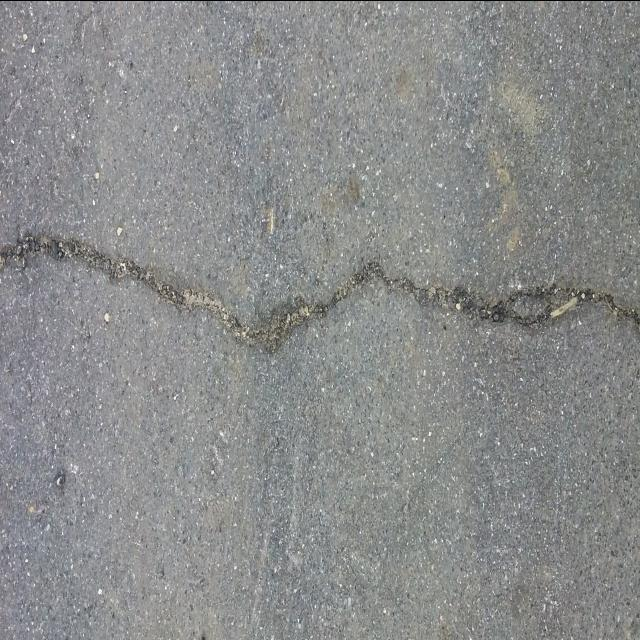Crack: (0, 230, 640, 347), (509, 285, 555, 302)
